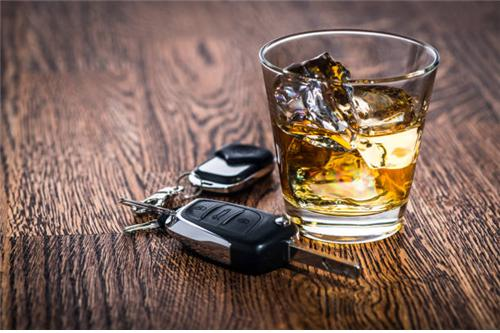alcohol: (255, 29, 441, 246)
